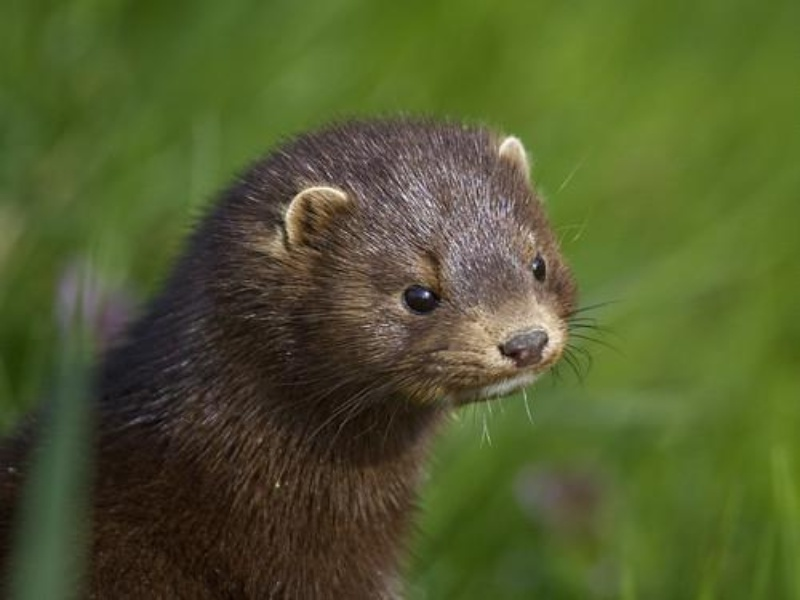minkish: (3, 104, 583, 593)
